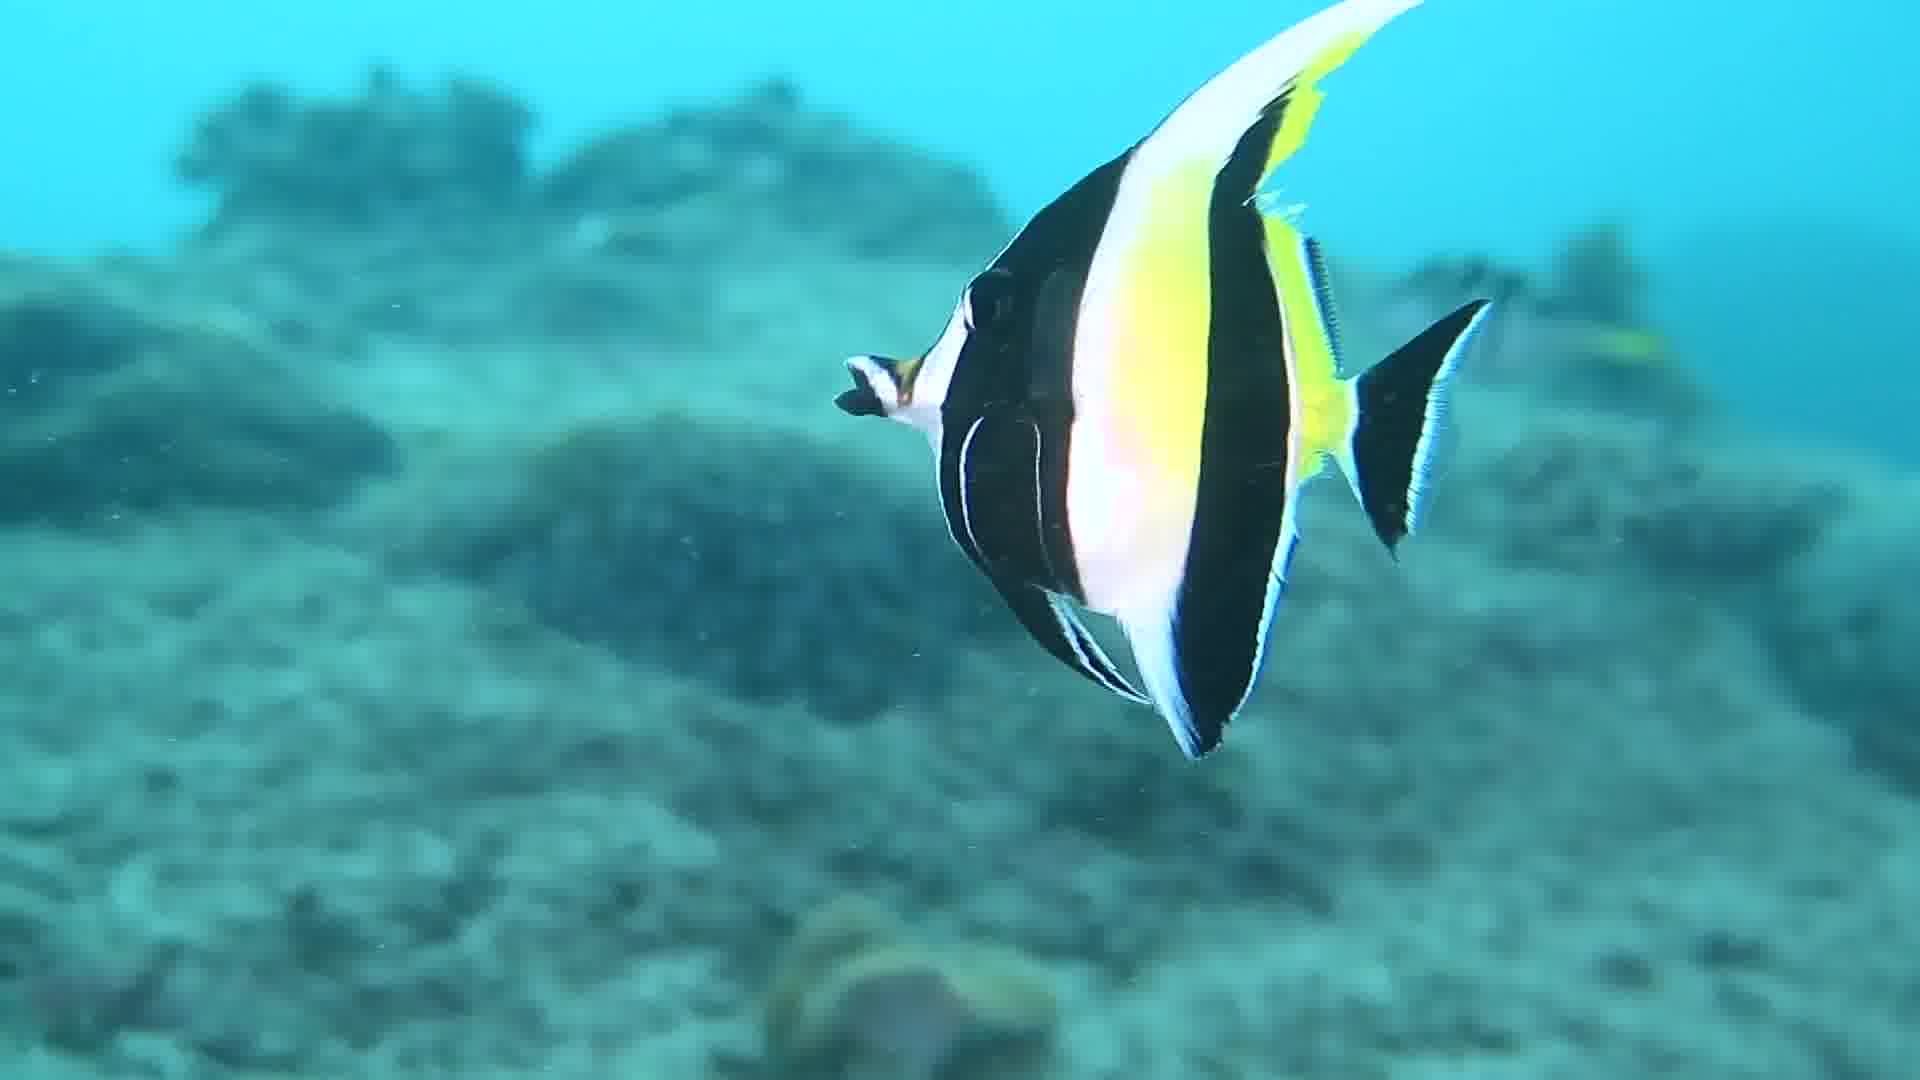Zanclus cornutus: (840, 1, 1470, 815)
